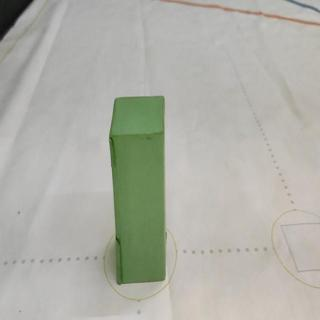greenbox: (107, 93, 172, 284)
